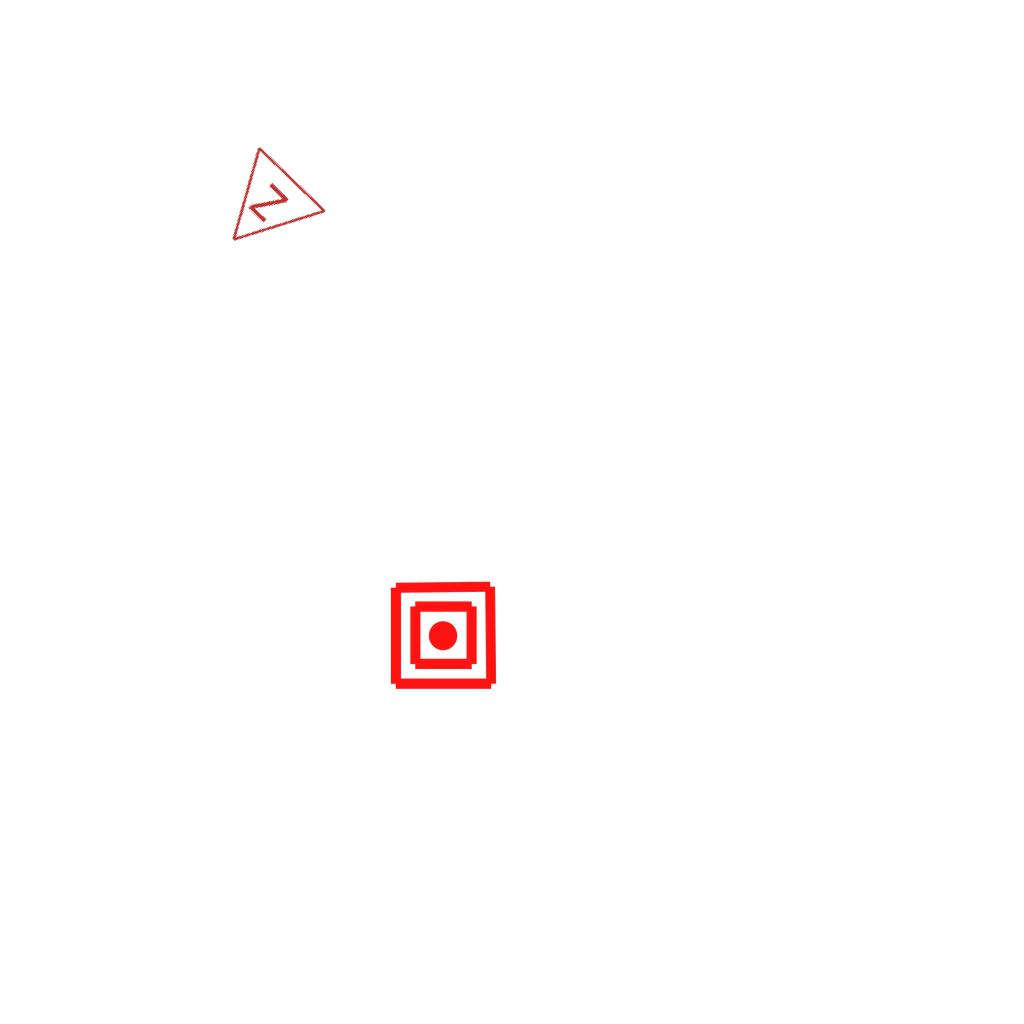NAM-Nichtautomatischer_Melder: (387, 579, 500, 692)
Zimmersignalleuchte: (194, 139, 334, 281)
